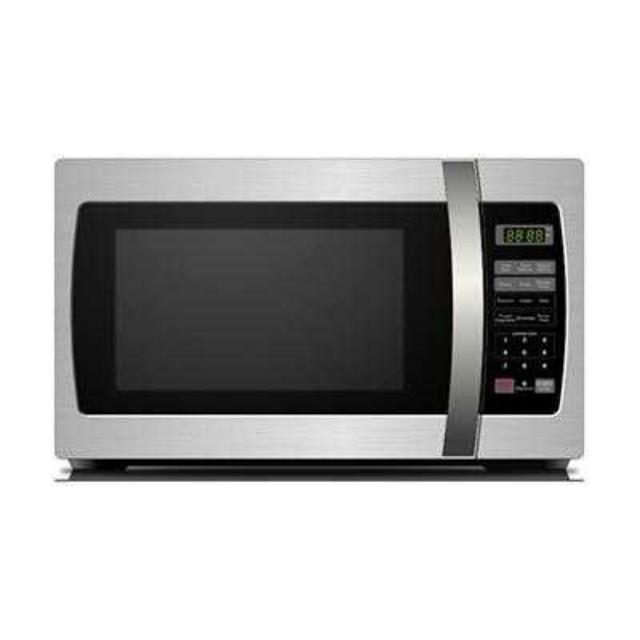Oven: (49, 153, 591, 480)
